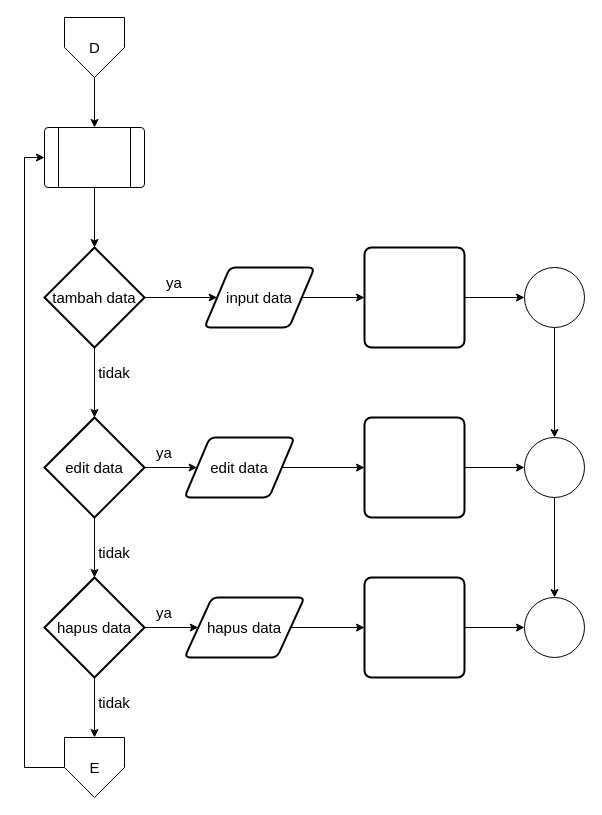
Image size: 602x815. Some labels were removed from this diagram. The box of each missing label's shape, as (x1, y1, x2, y2) in pixels:
edit transaksi: (363, 416, 465, 518)
hapus transaksi: (363, 576, 465, 678)
proses transaksi: (44, 126, 144, 188)
tambah transaksi: (363, 246, 465, 348)
